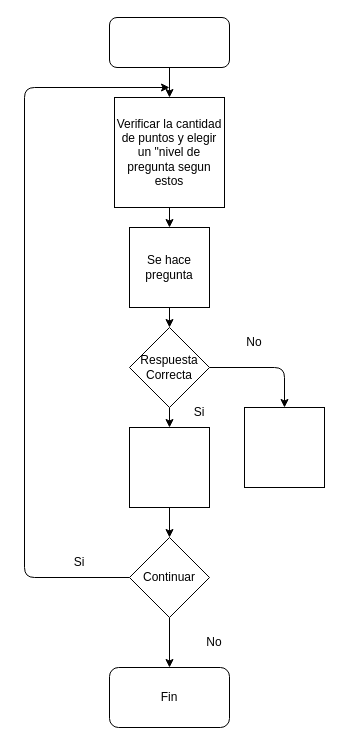
Some shapes in this 342 by 745 pixel diagram are drawn without their labels. The shapes that lost their labels are listed below. From the top down, each one's centre as x and y in pixels, then its label:
At pixel 169 42: "Inicio".
At pixel 169 467: "Añadir puntos".
At pixel 284 447: "No añadir puntos".
